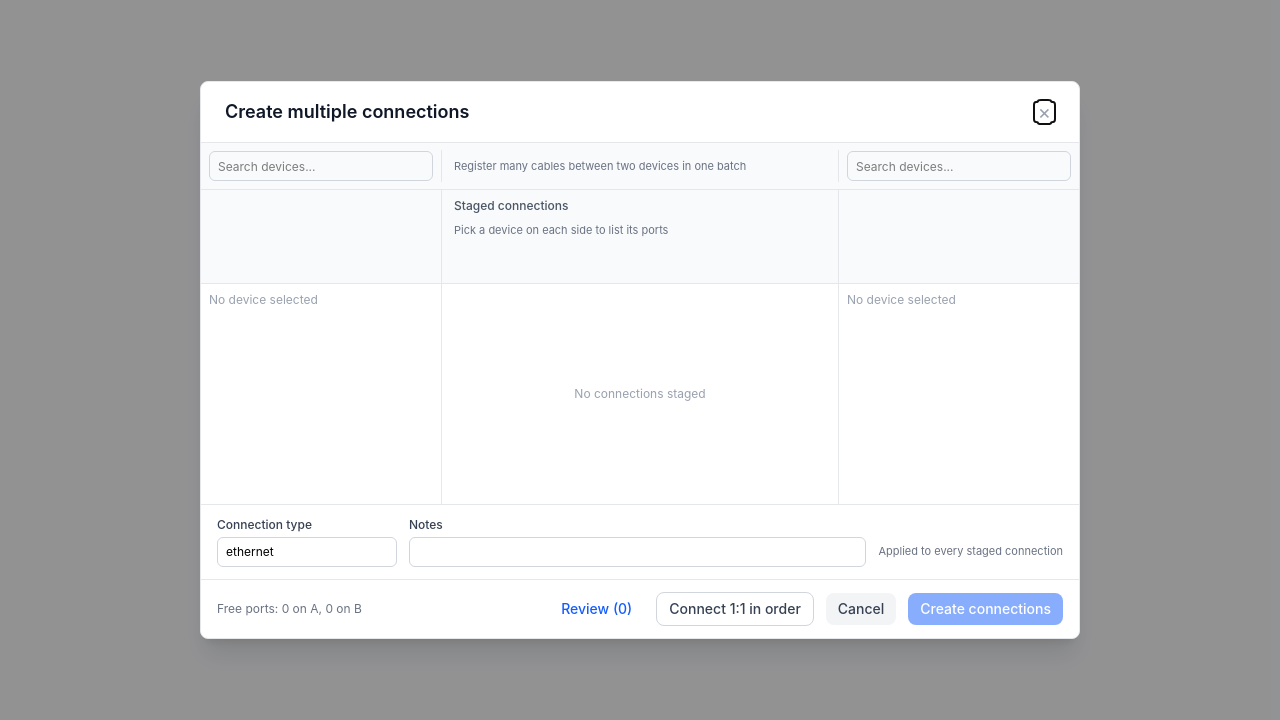
Scenario: MultiConnectDialog › picking both devices lists their ports in two columns
In the 1st field with placeholder "Search devices...": (321,166) x1=209 y1=151 x2=433 y2=181, type "de"
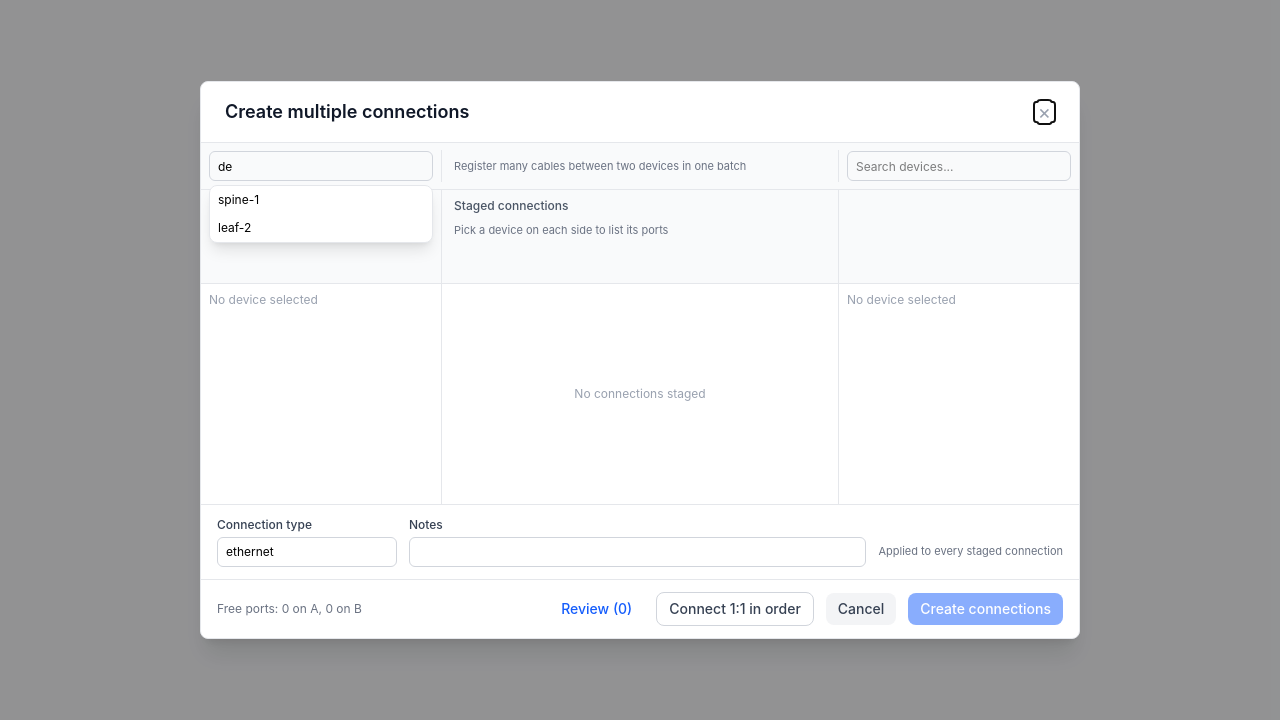
Click the button "spine-1": (321,200) x1=210 y1=186 x2=432 y2=214
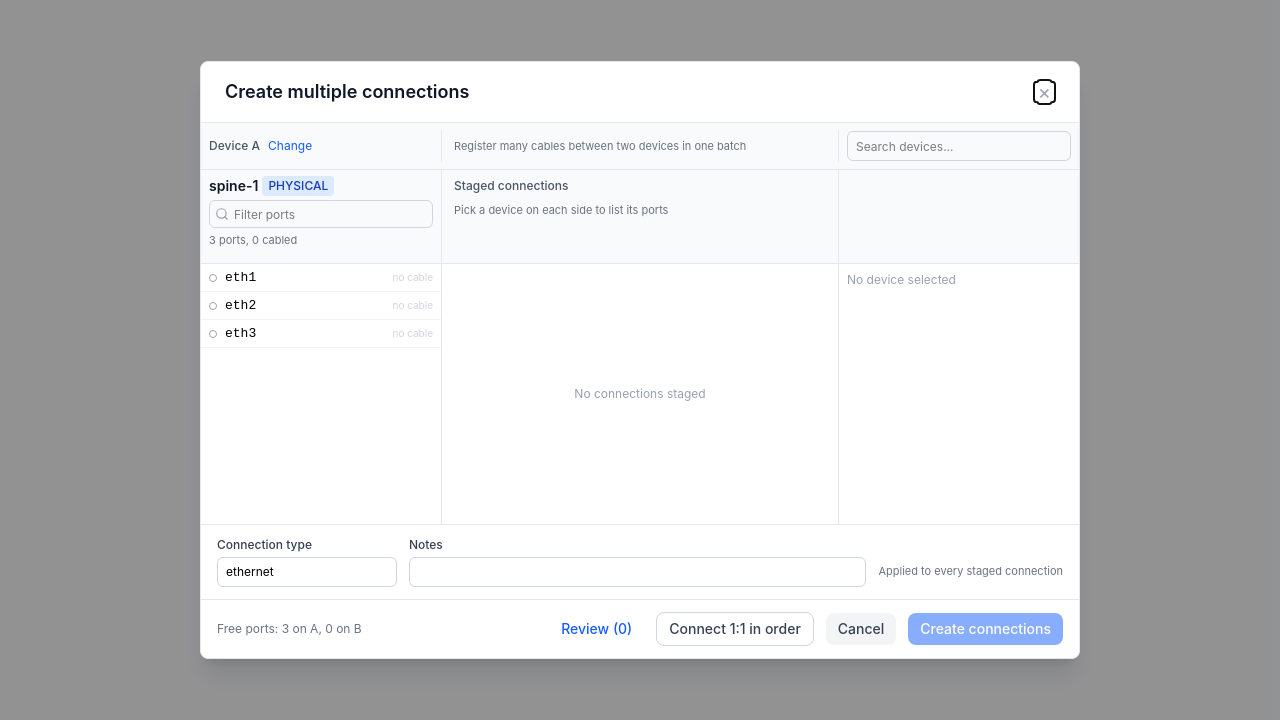
In the field with placeholder "Search devices...": (959,146) x1=847 y1=131 x2=1071 y2=161, type "de"
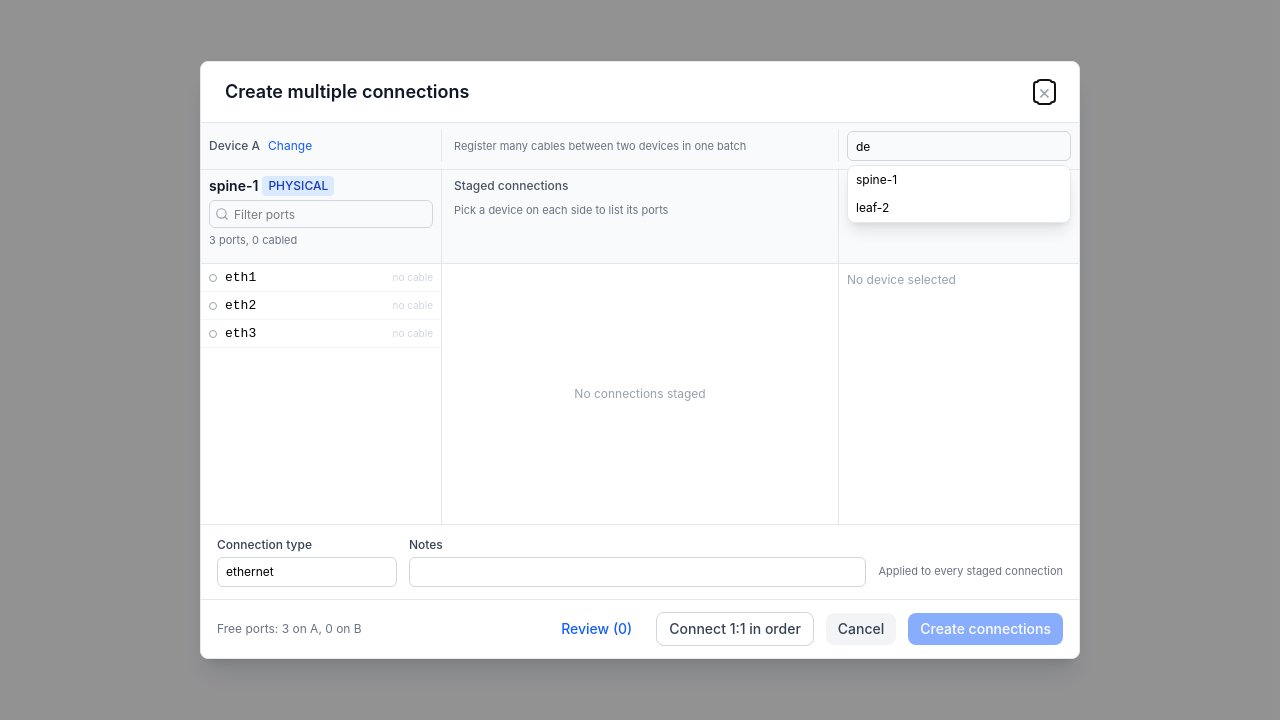
Click the button "leaf-2": (959,208) x1=848 y1=194 x2=1070 y2=222
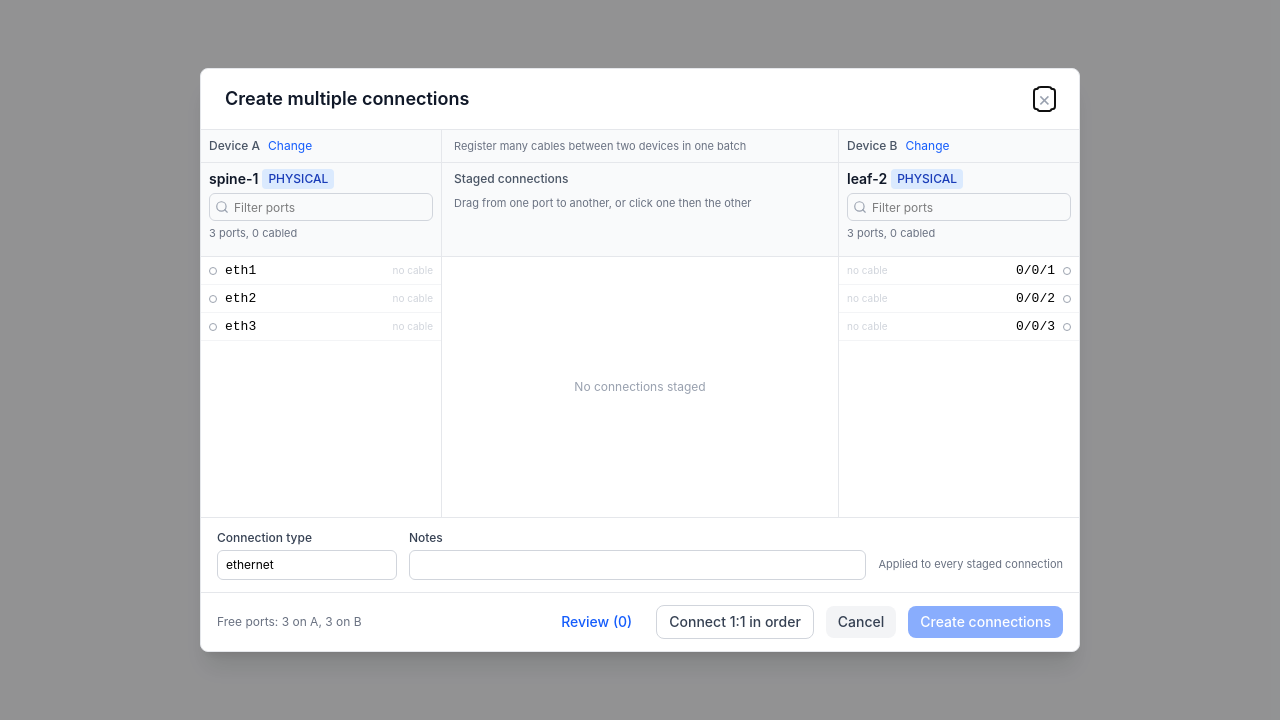
Now the text "eth1" is shown, box x1=225 y1=263 x2=256 y2=278
Now the text "0/0/1" is shown, box x1=1016 y1=263 x2=1055 y2=278
Now the text "No device selected" is gone
